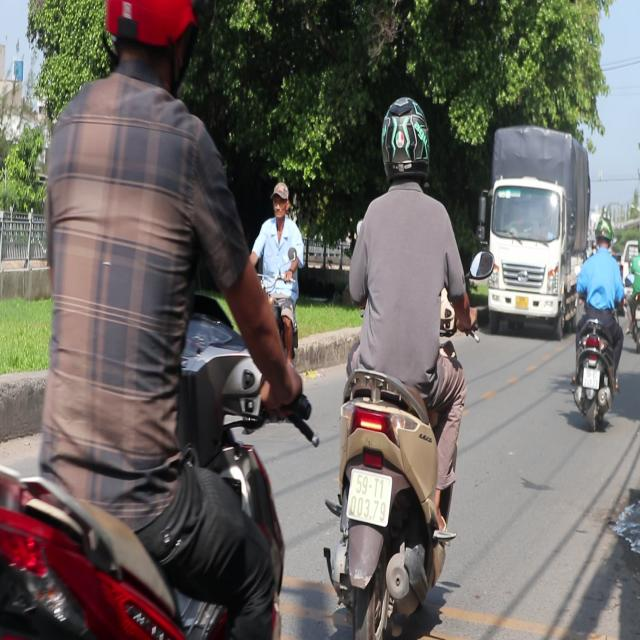helmet: (379, 94, 431, 190), (593, 219, 612, 251)
licenseplate: (0, 0, 316, 635), (317, 91, 474, 636), (247, 179, 310, 543), (568, 216, 625, 430)
motorcyclist: (270, 182, 289, 220)
nohelmet: (346, 469, 392, 528), (582, 367, 600, 389)
